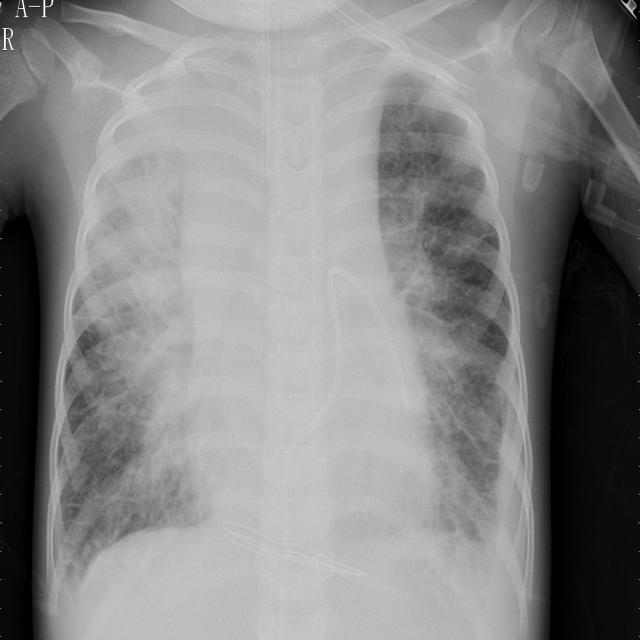high-pneumonia: (73, 86, 197, 560), (385, 177, 488, 529), (380, 49, 480, 165)
